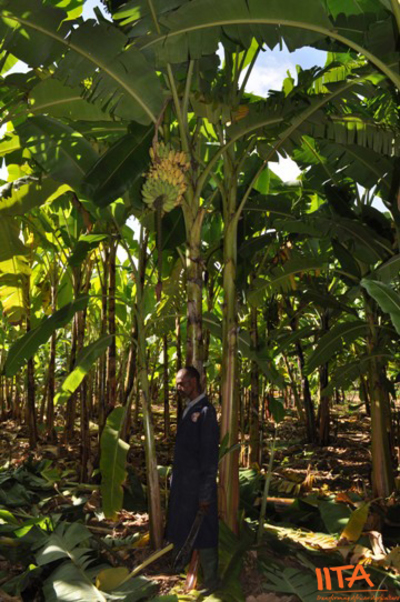bananaHand: (136, 136, 192, 216)
